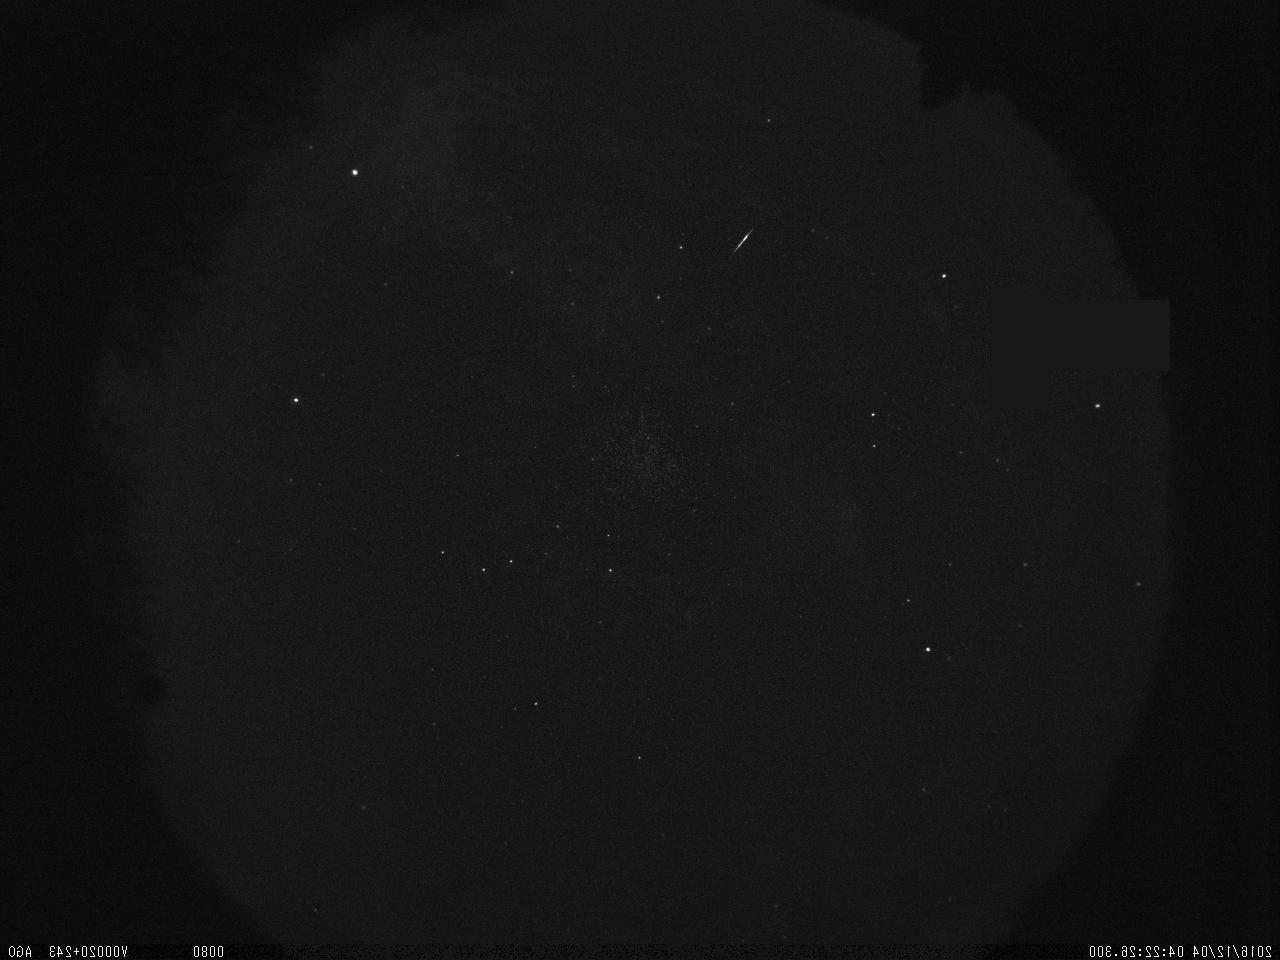meteor: (727, 222, 756, 262)
